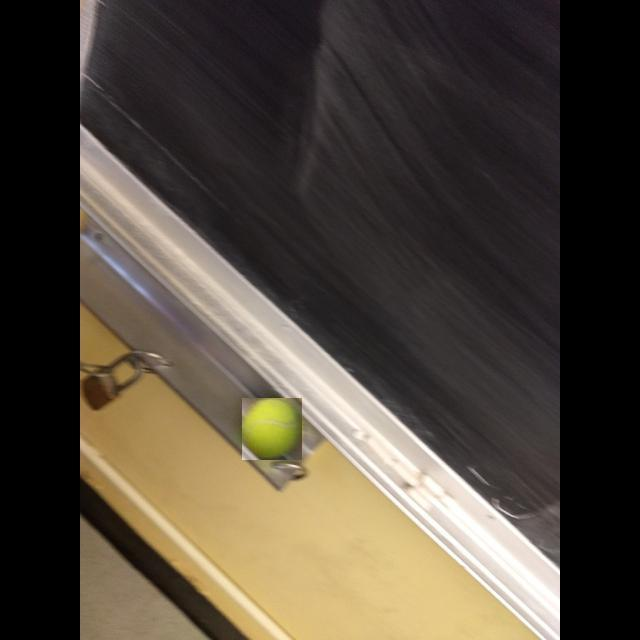tennis ball: (242, 398, 302, 460)
